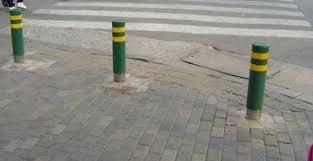Animal: (243, 42, 276, 121), (107, 20, 129, 86), (14, 11, 25, 69)
